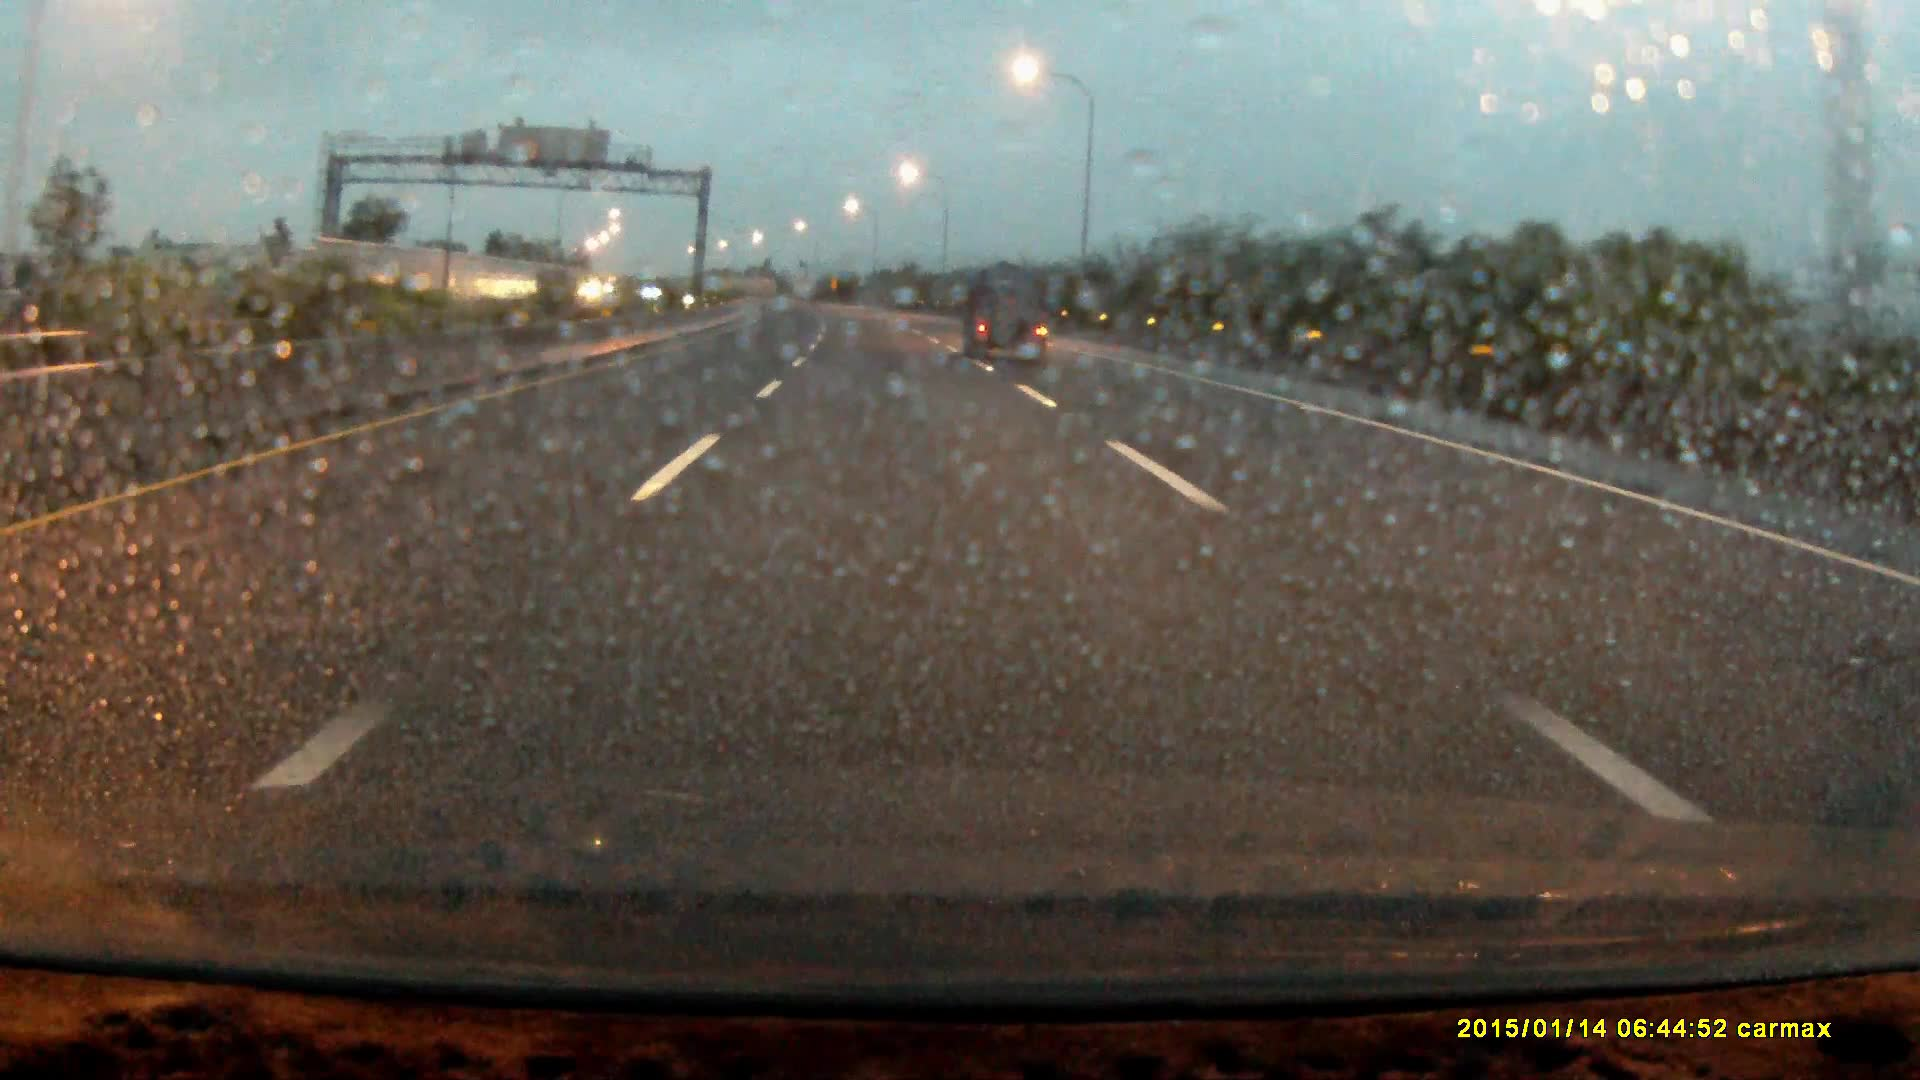vehicle: (967, 273, 1054, 363), (533, 269, 589, 310)
